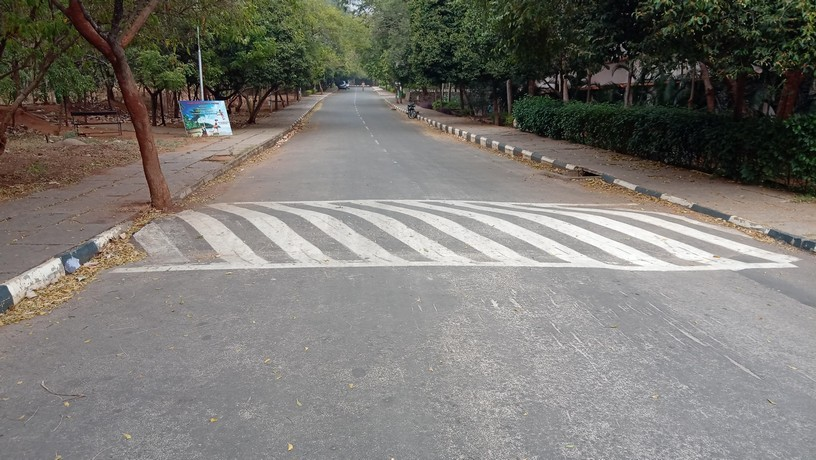bump: (103, 202, 793, 272)
